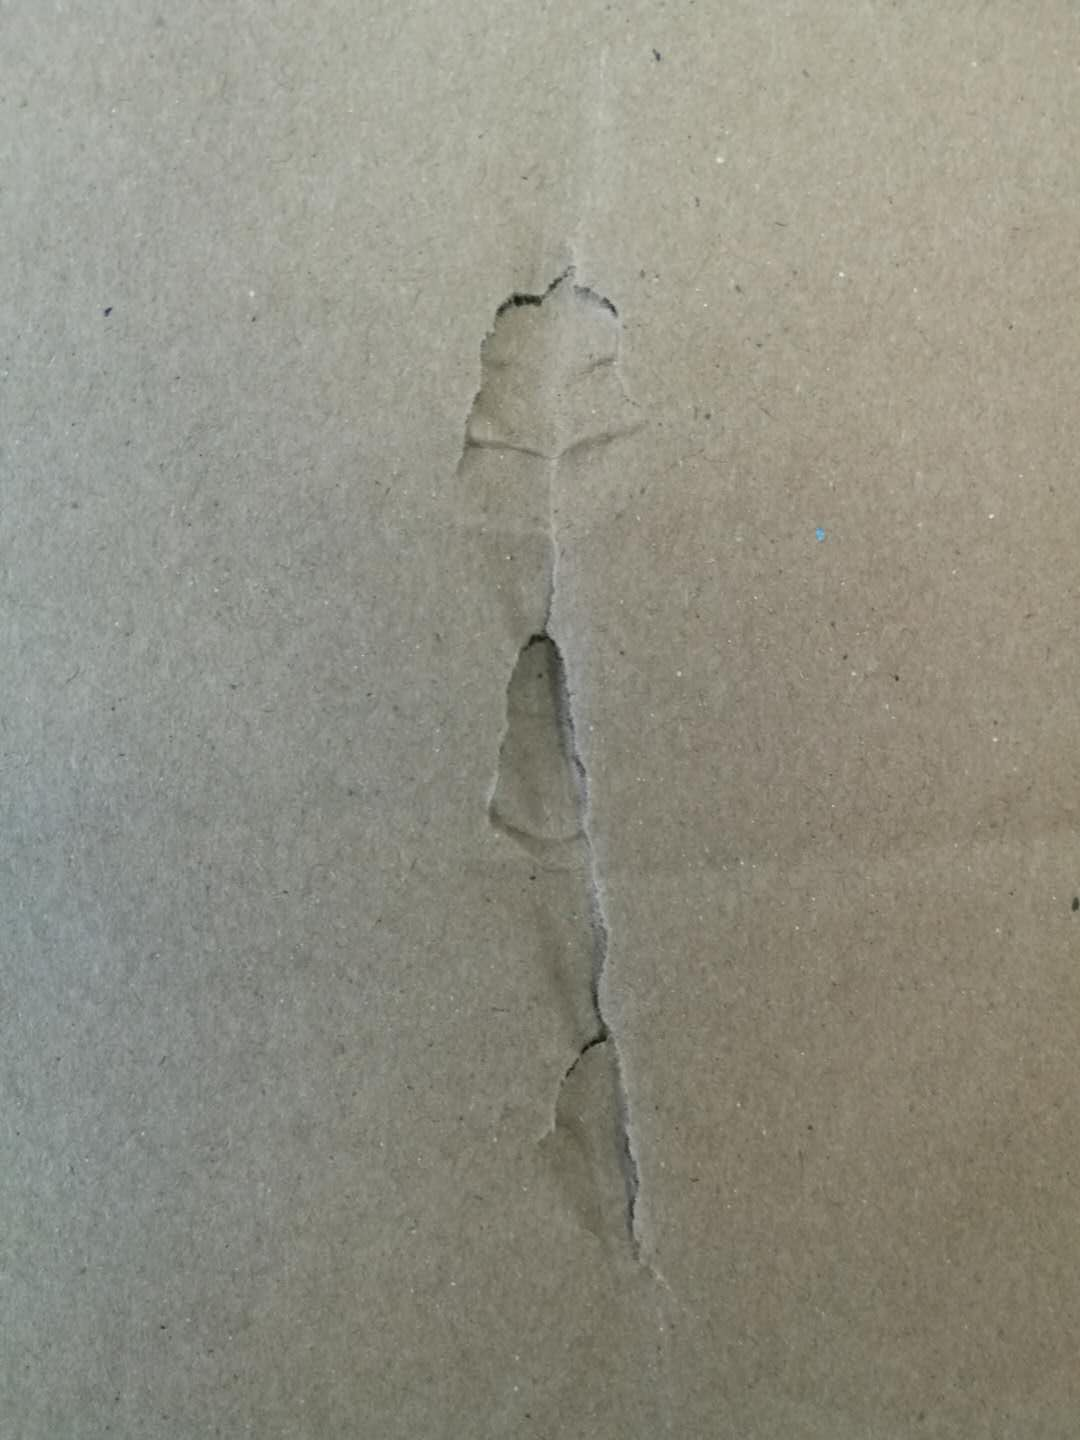defect: (397, 207, 749, 1388)
